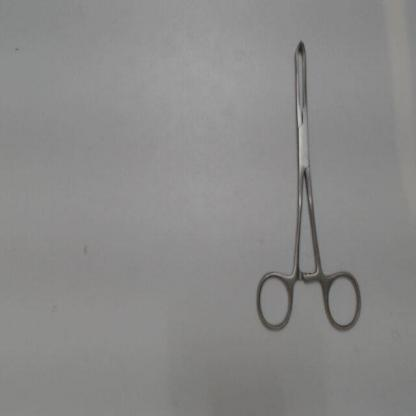Allis Tissue Forceps: (250, 29, 368, 340)
